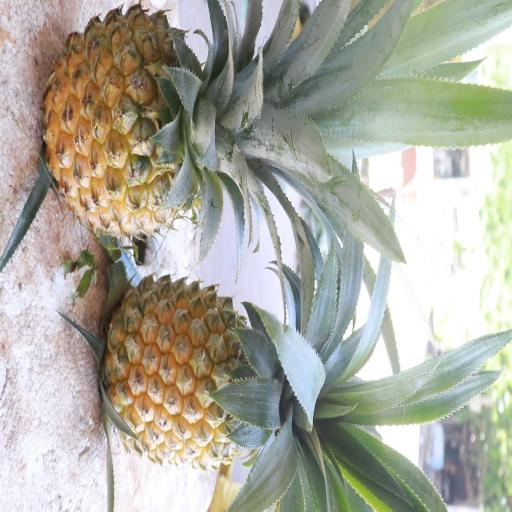Pineapple - v8 v1: (39, 0, 291, 246), (97, 267, 338, 477)
